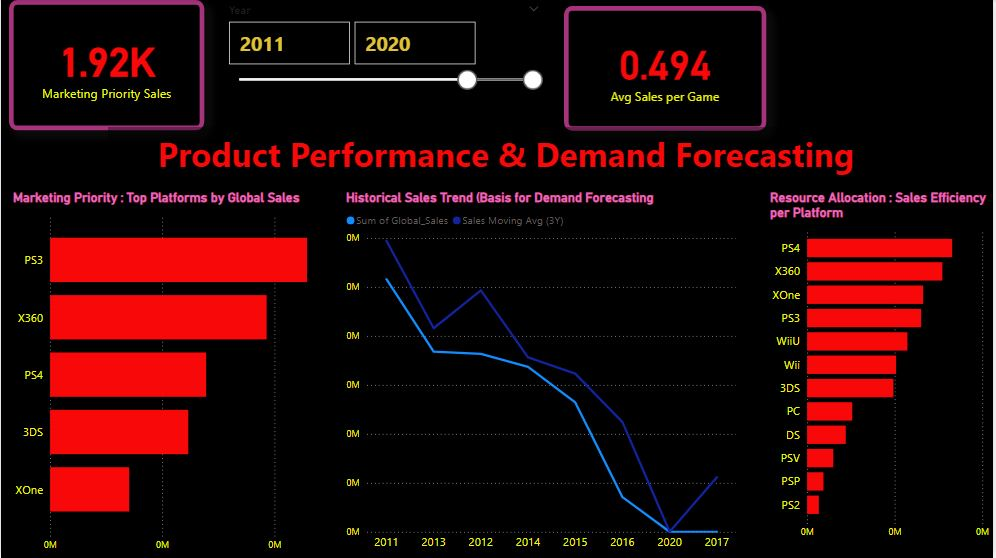

The dashboard page shown, as its layout file describes it:
{"tool":"powerbi","page":{"name":"Product and Forecasting","canvas":[1280,720],"ordinal":4},"visuals":[{"type":"card","fields":{"Values":["video_game_analysis games_clean.Marketing Priority Sales"]},"box":[10.7,0,252.1,168],"z":0},{"type":"clusteredBarChart","title":"Marketing Priority : Top Platforms by Global Sales","fields":{"Category":["video_game_analysis vgsales_clean.Platform"],"Y":["Sum(video_game_analysis vgsales_clean.Global_Sales)"]},"box":[10.7,244.9,429.1,475.5],"z":1000},{"type":"slicer","fields":{"Values":["video_game_analysis vgsales_clean.Year"]},"box":[280.7,0,425.5,168],"z":2000},{"type":"card","fields":{"Values":["video_game_analysis games_clean.Avg Sales per Game"]},"box":[725.8,7.2,261,160.9],"z":2001},{"type":"lineChart","title":"Historical Sales Trend (Basis for Demand Forecasting","fields":{"Y":["Sum(video_game_analysis vgsales_clean.Global_Sales)","video_game_analysis games_clean.Sales Moving Avg (3Y)"],"Category":["video_game_analysis vgsales_clean.Year"]},"box":[439.8,244.9,513.1,475.5],"z":2002},{"type":"clusteredBarChart","title":"Resource Allocation : Sales Efficiency per Platform","fields":{"Category":["video_game_analysis vgsales_clean.Platform"],"Y":["video_game_analysis games_clean.Sales per Game"]},"box":[986.8,244.9,293.2,459.4],"z":2003},{"type":"textbox","box":[137.7,164.5,1027.9,80.4],"z":2004}]}

Visuals, with their boxes in screenshot pixels (x1, y1, x2, y2), scaled from the page's 1280x720 canvas onto the 996x558 screenshot:
card - video_game_analysis games_clean.Marketing Priority Sales: bbox=[8, 0, 204, 130]
"Marketing Priority : Top Platforms by Global Sales" clusteredBarChart: bbox=[8, 190, 342, 557]
slicer - video_game_analysis vgsales_clean.Year: bbox=[218, 0, 550, 130]
card - video_game_analysis games_clean.Avg Sales per Game: bbox=[565, 6, 768, 130]
"Historical Sales Trend (Basis for Demand Forecasting" lineChart: bbox=[342, 190, 741, 557]
"Resource Allocation : Sales Efficiency per Platform" clusteredBarChart: bbox=[768, 190, 995, 546]
textbox: bbox=[107, 127, 907, 190]
